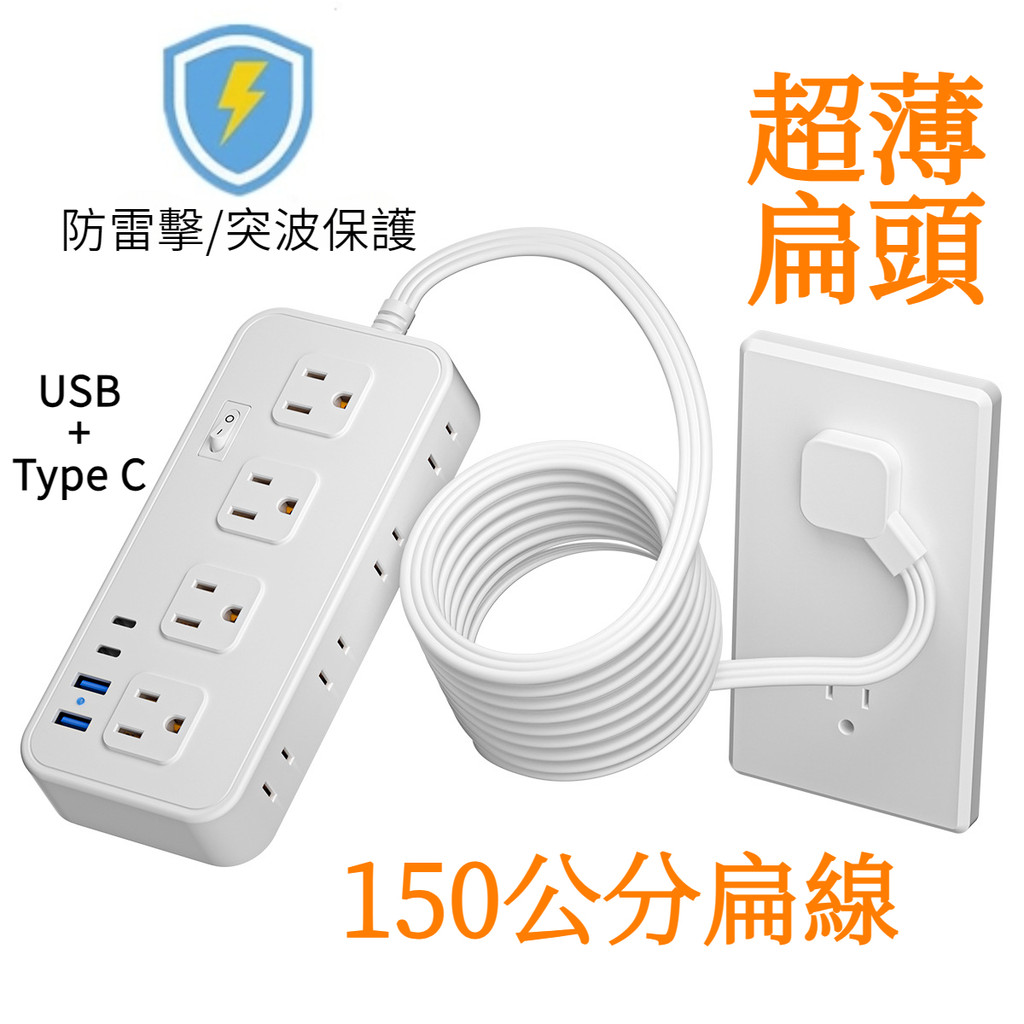socket: (20, 306, 484, 870)
